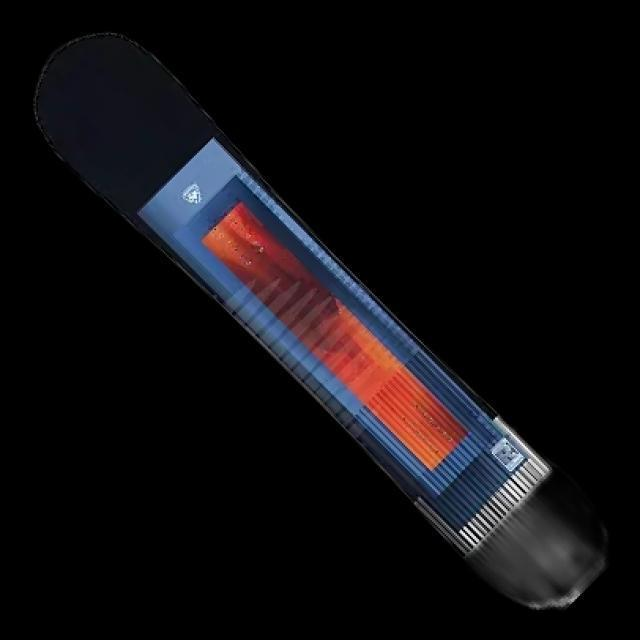Snowboard: (32, 30, 609, 611)
